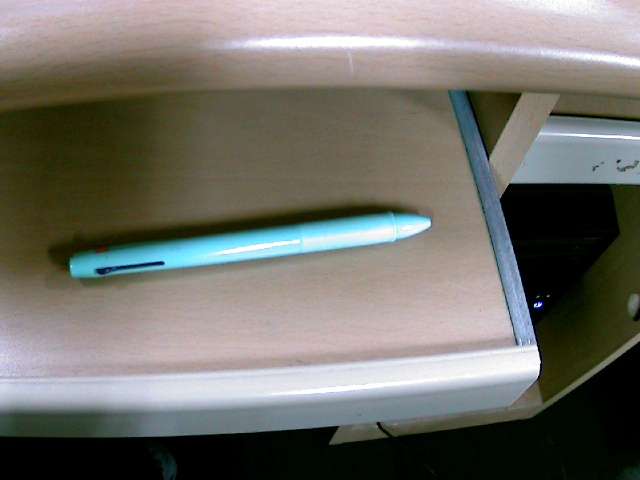pen: (70, 213, 429, 277)
